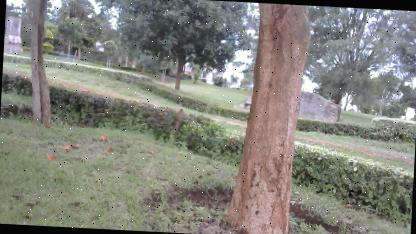tree: (218, 1, 316, 234)
